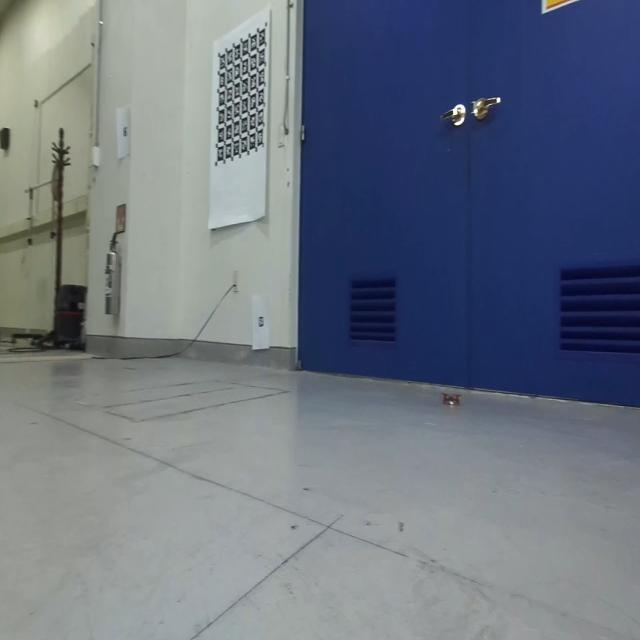crazyflie: (439, 388, 464, 411)
